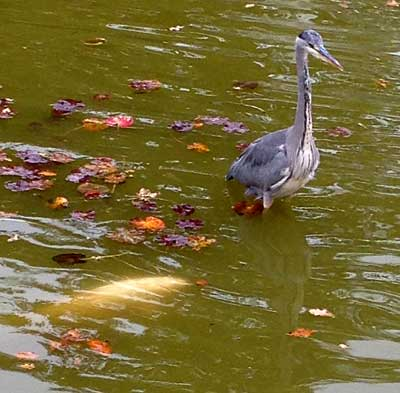heron: (229, 24, 347, 220)
